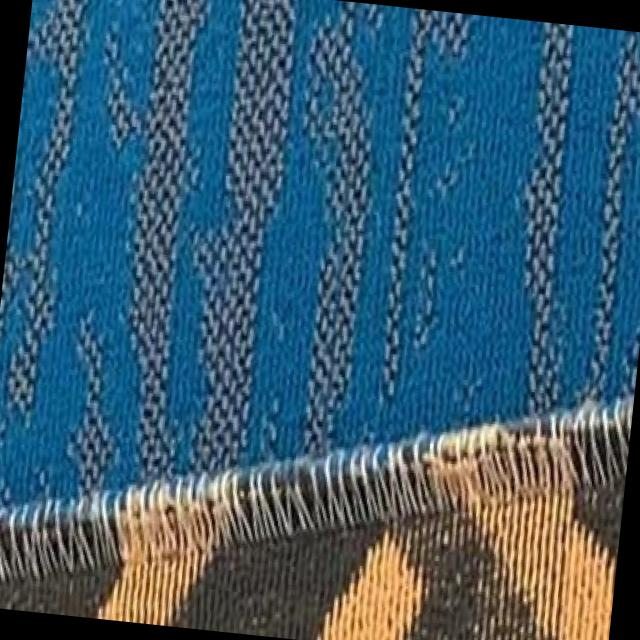gray stitch: (237, 355, 630, 584), (0, 437, 245, 613)
